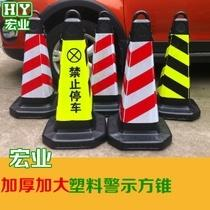cone_barrel: (46, 10, 99, 145), (114, 14, 163, 142), (7, 12, 57, 116), (156, 12, 198, 119), (86, 13, 120, 113)
